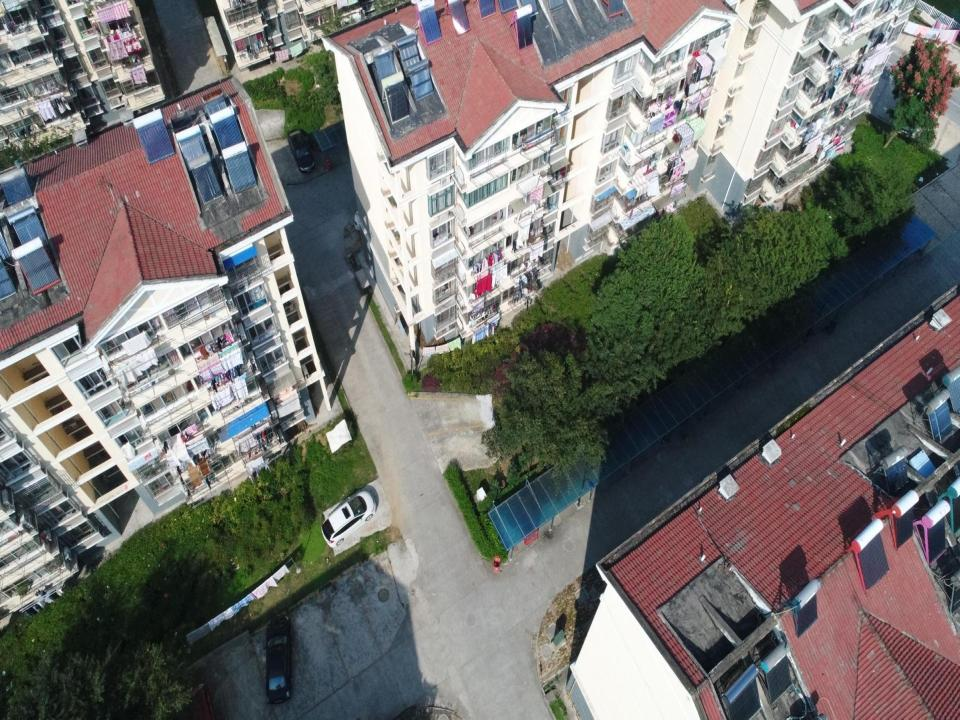car: (320, 490, 376, 548), (262, 614, 293, 705), (287, 128, 316, 174), (354, 208, 385, 234)
